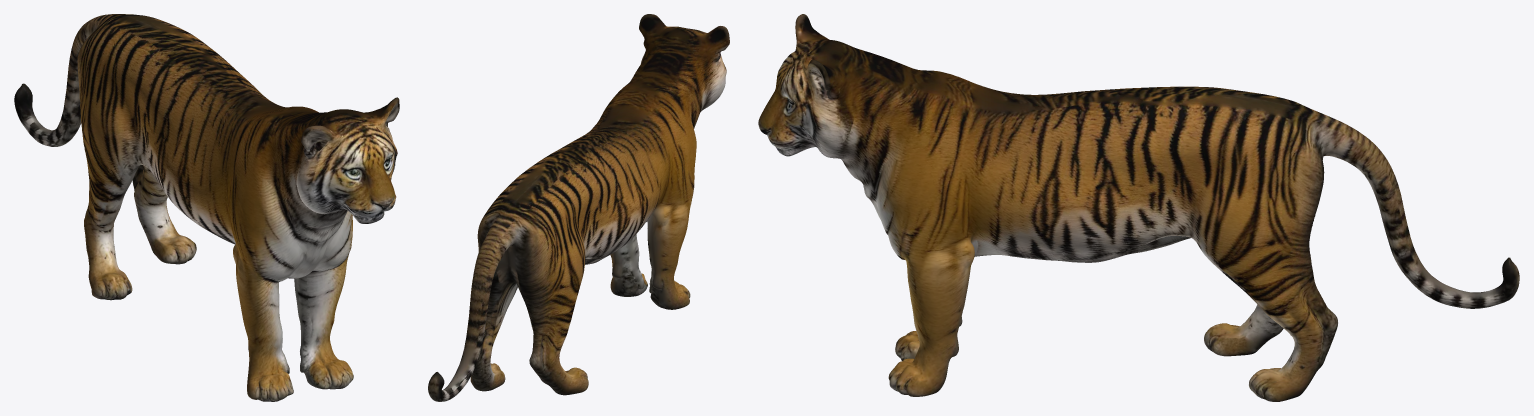
The model's file is bengal-tiger.glb.
3 renders of one model, left to right at view 1: azimuth 30°, elevation 25°; view 2: azimuth 150°, elevation 25°; view 3: azimuth 270°, elevation 25°, orthographic. The views are drawn at different scales.
Visible parts, largest first — view 1: node_0; view 2: node_0; view 3: node_0.
Part boxes in pixels (x1,y1,x2,y2): node_0: [14, 14, 399, 401]; node_0: [428, 14, 729, 401]; node_0: [758, 14, 1519, 401].
Bounding box in the file's own units: 0.2327 × 0.5668 × 1.16.
1 material, 1 textured.
